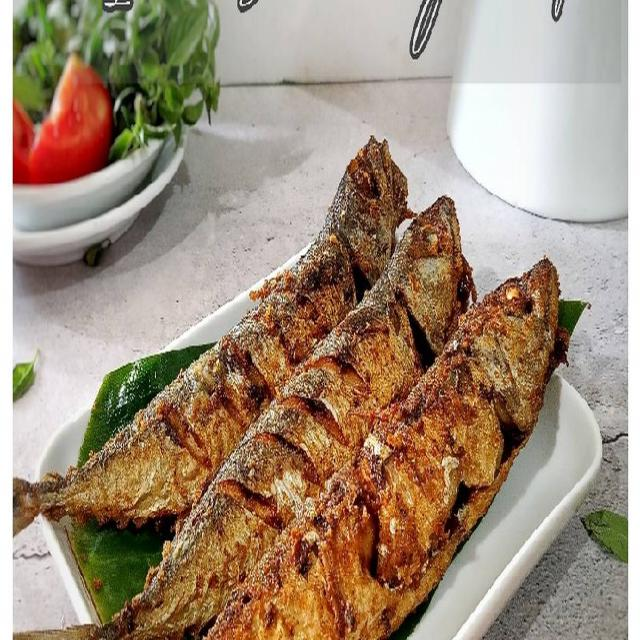ikan goreng: (11, 193, 461, 640), (11, 135, 408, 543), (202, 255, 562, 640)
